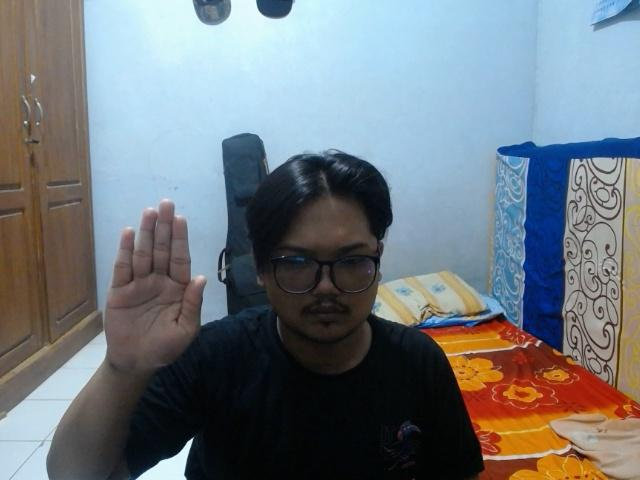Release: (101, 194, 210, 378)
